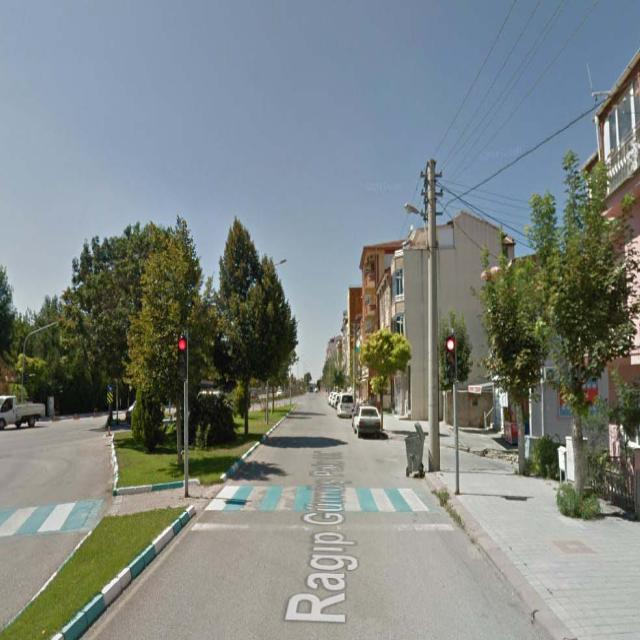kirmizi: (177, 335, 188, 378), (446, 334, 454, 380)
